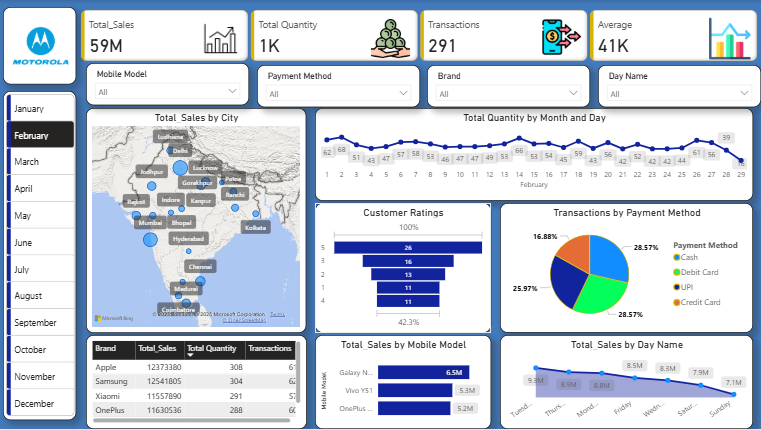

This screenshot's page, from the dashboard's own definition file:
{"tool":"powerbi","page":{"name":"Page 1","canvas":[1280,720],"ordinal":0},"visuals":[{"type":"shape","box":[6.7,11.7,123.3,130],"z":0},{"type":"image","box":[0,0,129.3,114.2],"z":1000},{"type":"shape","box":[6.7,153.3,123.3,553.3],"z":2000},{"type":"advancedSlicerVisual","fields":{"Values":["Sales_Data.Date.Variation.Date Hierarchy.Month"]},"box":[6.7,152.9,126,552.7],"z":3000},{"type":"cardVisual","fields":{"Data":["Sales_Data.Total_Sales","Sales_Data.Total Quantity","Sales_Data.Transactions","Sales_Data.Average"]},"box":[133.3,11.7,1146.7,96.7],"z":4000},{"type":"map","fields":{"Category":["Sales_Data.City"],"Size":["Sales_Data.Total_Sales"]},"box":[146.1,181.4,369.6,378],"z":5000},{"type":"lineChart","fields":{"Category":["Sales_Data.Date.Variation.Date Hierarchy.Month","Sales_Data.Date.Variation.Date Hierarchy.Day"],"Y":["Sales_Data.Total Quantity"]},"box":[530.8,181.4,735.7,156.2],"z":6000},{"type":"clusteredBarChart","fields":{"Category":["Sales_Data.Mobile Model"],"Y":["Sales_Data.Total_Sales"]},"box":[530.8,562.7,295.6,157.9],"z":7000},{"type":"pieChart","fields":{"Category":["Sales_Data.Payment Method"],"Y":["Sales_Data.Transactions"]},"box":[841.6,341,425,218.4],"z":8000},{"type":"funnel","title":"Customer Ratings","fields":{"Category":["Sales_Data.Customer Ratings"],"Y":["CountNonNull(Sales_Data.Customer Ratings)"]},"box":[530.8,341,295.6,218.4],"z":9000},{"type":"areaChart","fields":{"Category":["Sales_Data.Day Name"],"Y":["Sales_Data.Total_Sales"]},"box":[841.6,562.7,425,157.9],"z":10000},{"type":"tableEx","fields":{"Values":["Sales_Data.Brand","Sales_Data.Total_Sales","Sales_Data.Total Quantity","Sales_Data.Transactions"]},"box":[146.1,562.7,371.2,157.9],"z":11000},{"type":"slicer","fields":{"Values":["Sales_Data.Mobile Model"]},"box":[146.1,105.8,273.8,70.6],"z":12000},{"type":"slicer","fields":{"Values":["Sales_Data.Payment Method"]},"box":[433.4,109.2,273.8,70.6],"z":13000},{"type":"slicer","fields":{"Values":["Sales_Data.Brand"]},"box":[719,109.2,273.8,70.6],"z":14000},{"type":"slicer","fields":{"Values":["Sales_Data.Day Name"]},"box":[1006.2,109.2,273.8,70.6],"z":15000}]}

Visuals, with their boxes in screenshot pixels (x1, y1, x2, y2), scaled from the page's 1280x720 canvas onto the 761x430 screenshot:
shape: pyautogui.locateOnScreen(4, 7, 77, 85)
image: pyautogui.locateOnScreen(0, 0, 77, 68)
shape: pyautogui.locateOnScreen(4, 92, 77, 422)
advancedSlicerVisual - Sales_Data.Date.Variation.Date Hierarchy.Month: pyautogui.locateOnScreen(4, 91, 79, 421)
cardVisual - Sales_Data.Total_Sales x Sales_Data.Total Quantity: pyautogui.locateOnScreen(79, 7, 760, 65)
map - Sales_Data.City x Sales_Data.Total_Sales: pyautogui.locateOnScreen(87, 108, 307, 334)
lineChart - Sales_Data.Date.Variation.Date Hierarchy.Month x Sales_Data.Date.Variation.Date Hierarchy.Day: pyautogui.locateOnScreen(316, 108, 753, 202)
clusteredBarChart - Sales_Data.Mobile Model x Sales_Data.Total_Sales: pyautogui.locateOnScreen(316, 336, 491, 429)
pieChart - Sales_Data.Payment Method x Sales_Data.Transactions: pyautogui.locateOnScreen(500, 204, 753, 334)
"Customer Ratings" funnel: pyautogui.locateOnScreen(316, 204, 491, 334)
areaChart - Sales_Data.Day Name x Sales_Data.Total_Sales: pyautogui.locateOnScreen(500, 336, 753, 429)
tableEx - Sales_Data.Brand x Sales_Data.Total_Sales: pyautogui.locateOnScreen(87, 336, 308, 429)
slicer - Sales_Data.Mobile Model: pyautogui.locateOnScreen(87, 63, 250, 105)
slicer - Sales_Data.Payment Method: pyautogui.locateOnScreen(258, 65, 420, 107)
slicer - Sales_Data.Brand: pyautogui.locateOnScreen(427, 65, 590, 107)
slicer - Sales_Data.Day Name: pyautogui.locateOnScreen(598, 65, 760, 107)
